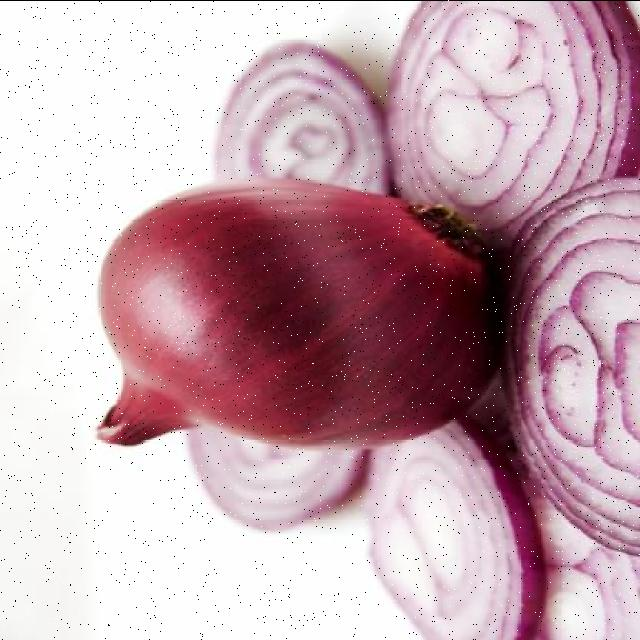Onion: (97, 178, 498, 446)
